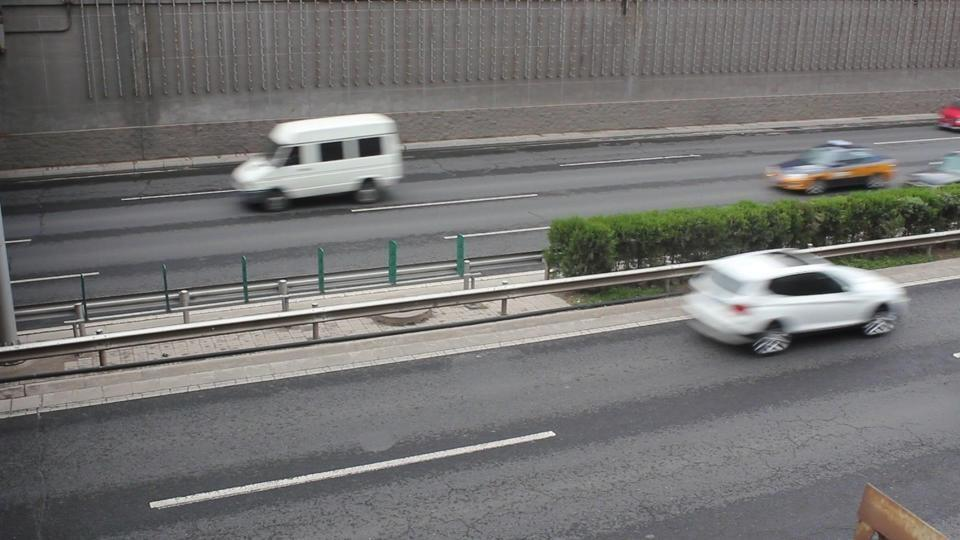car: (680, 247, 910, 355), (762, 140, 899, 196), (906, 152, 960, 185), (935, 102, 960, 132)
